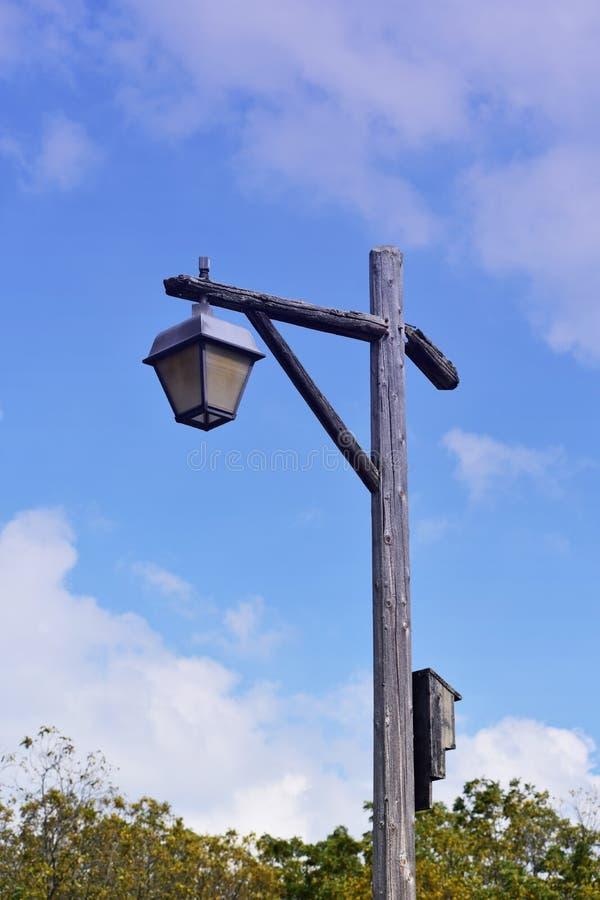light_pole: (340, 211, 436, 900)
